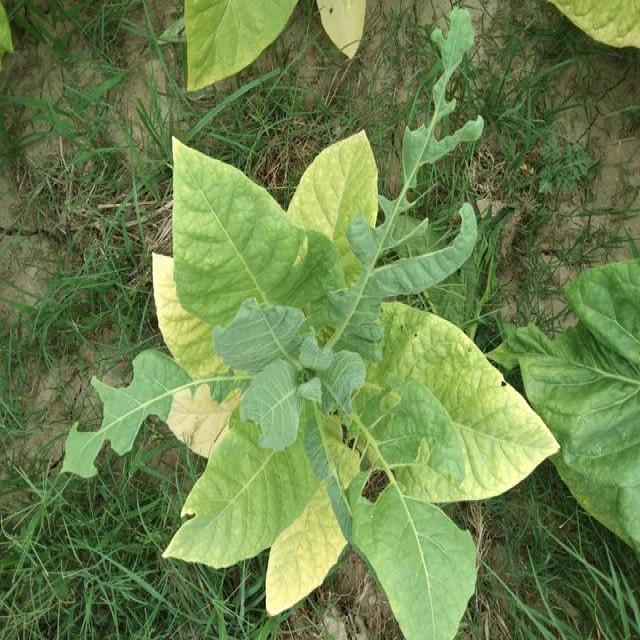crop: (129, 108, 564, 634)
